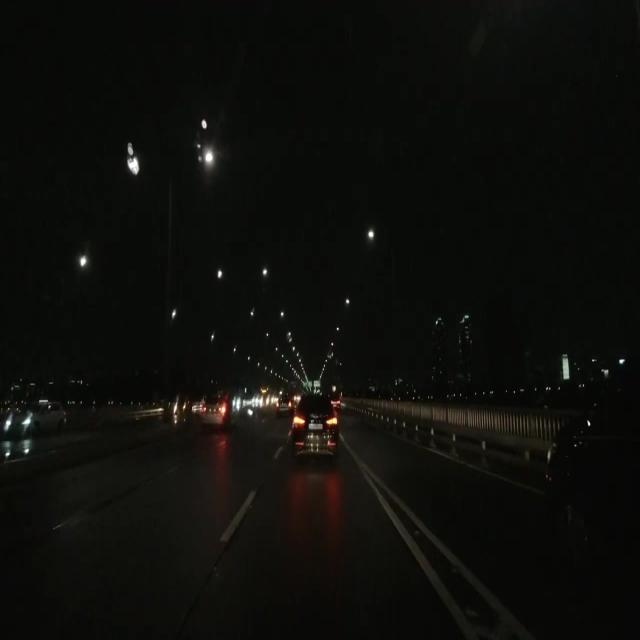Car: (538, 362, 639, 611), (290, 392, 339, 459), (5, 401, 66, 427), (197, 389, 231, 427)
